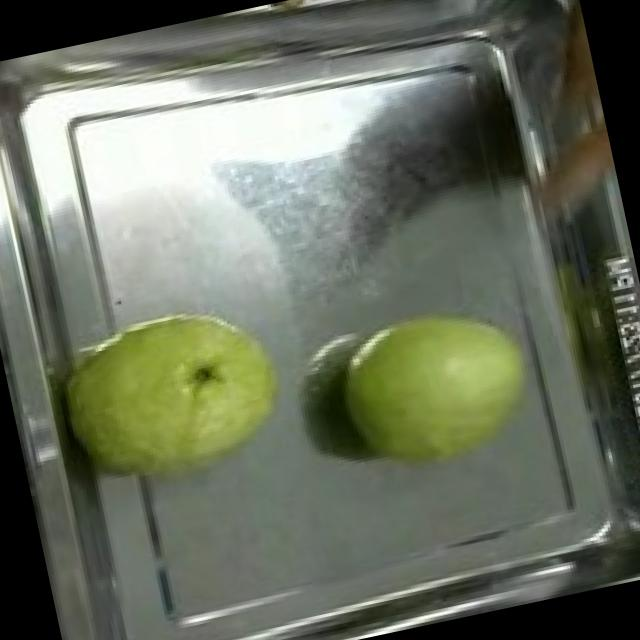Fruit: (40, 280, 304, 506), (320, 282, 550, 492)
